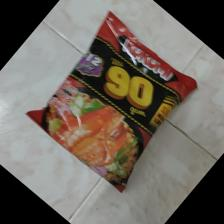Kokomi: (24, 12, 201, 195)
